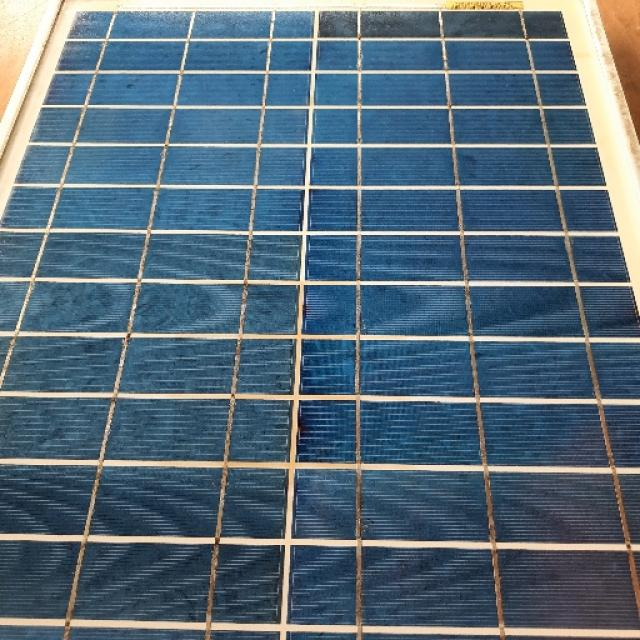Clean: (0, 36, 638, 640)
